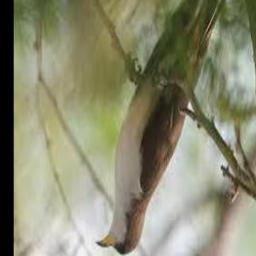Cuckoo: (96, 0, 239, 253)
